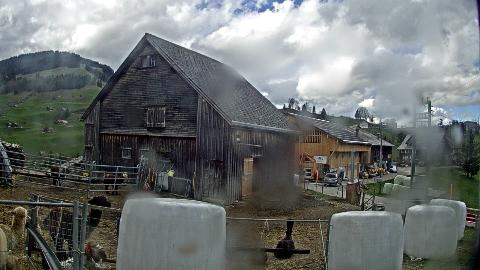car: (324, 173, 342, 187), (389, 165, 397, 173), (418, 162, 426, 166)
sheep: (42, 194, 112, 260), (0, 206, 30, 270), (272, 218, 296, 260), (103, 170, 129, 196), (49, 164, 71, 188)
